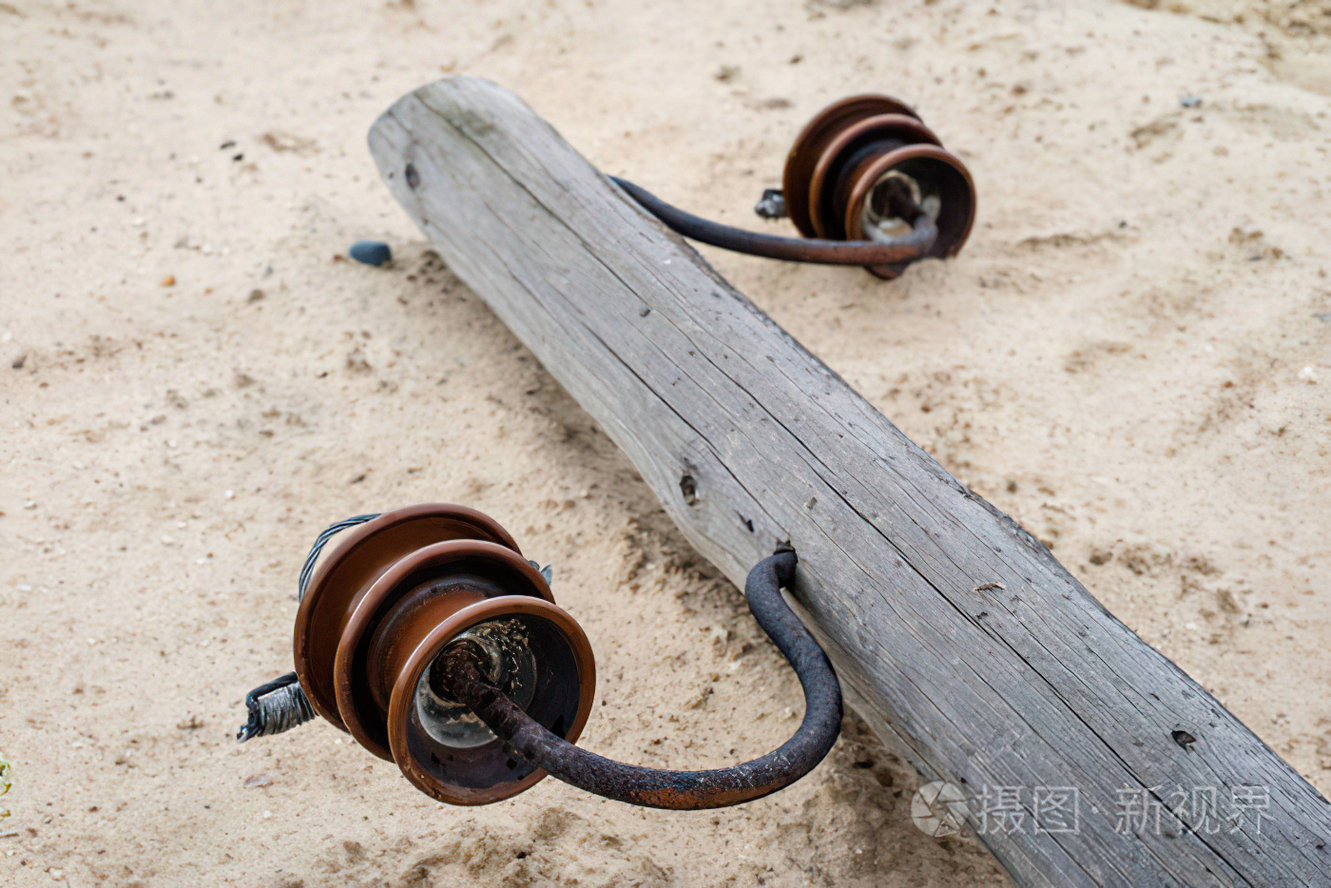insulator: (284, 497, 584, 810), (776, 95, 981, 279)
